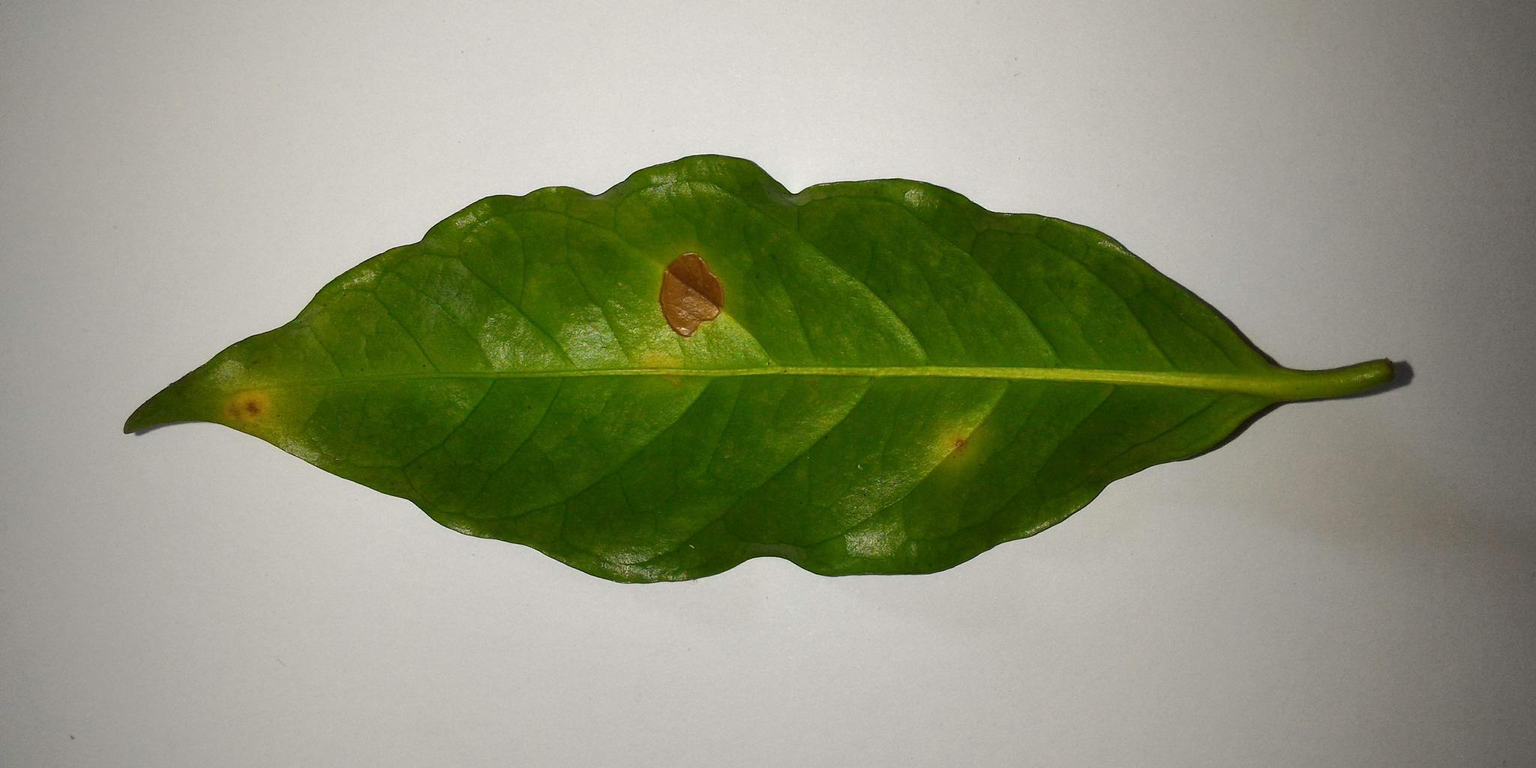Miner: (639, 245, 738, 340)
